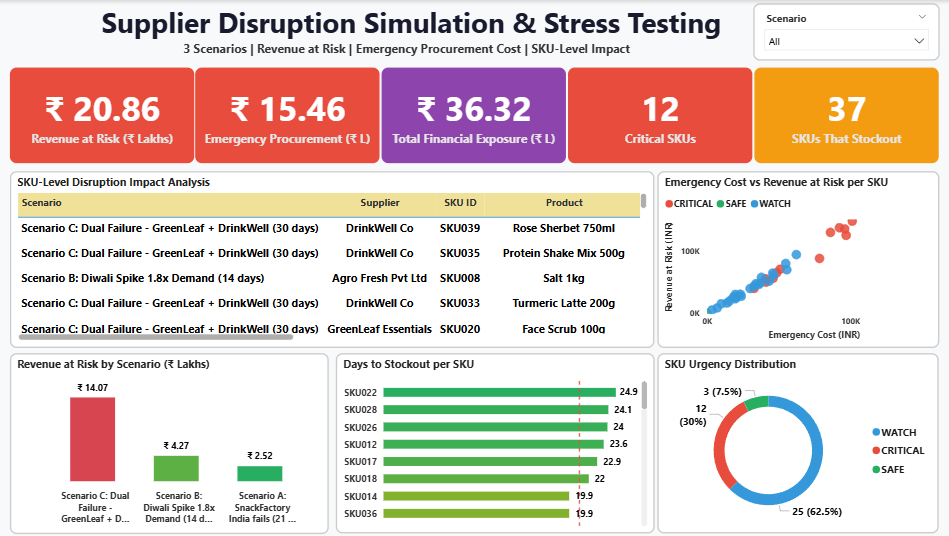

What the dashboard file says about the page in this screenshot:
{"tool":"powerbi","page":{"name":"Disruption Simulation","canvas":[1280,720],"ordinal":4},"visuals":[{"type":"textbox","box":[120.4,0,855.4,81.3],"z":0},{"type":"card","fields":{"Values":["_Measures.Total Revenue at Risk Scenarios"]},"box":[14.1,90.7,248,128.2],"z":1000},{"type":"card","fields":{"Values":["_Measures.SKUs at Critical Risk"]},"box":[764.7,90.7,248,128.2],"z":2000},{"type":"card","fields":{"Values":["_Measures.Total Emergency Cost"]},"box":[264.3,90.7,248,128],"z":3000},{"type":"card","fields":{"Values":["_Measures.Total Financial Exposure"]},"box":[514.5,90.7,248,128.2],"z":4000},{"type":"tableEx","title":"SKU-Level Disruption Impact Analysis","fields":{"Values":["disruption_scenarios.scenario","disruption_scenarios.supplier_name","disruption_scenarios.sku_id","disruption_scenarios.product_name","Sum(disruption_scenarios.current_stock)","Sum(disruption_scenarios.units_short)","Sum(disruption_scenarios.days_to_stockout)","Sum(disruption_scenarios.revenue_at_risk_inr)","Sum(disruption_scenarios.emergency_cost_inr)","disruption_scenarios.urgency_level","disruption_scenarios.recommended_action"]},"box":[14.1,229.9,866,237.7],"z":5000},{"type":"scatterChart","title":"Emergency Cost vs Revenue at Risk per SKU","fields":{"X":["Sum(disruption_scenarios.emergency_cost_inr)"],"Y":["disruption_scenarios.revenue_at_risk_inr"],"Series":["disruption_scenarios.urgency_level"]},"box":[885.1,229.9,378.5,237.7],"z":6000},{"type":"clusteredBarChart","title":"Days to Stockout per SKU","fields":{"Category":["disruption_scenarios.sku_id"],"Y":["Avg(disruption_scenarios.days_to_stockout)"]},"box":[452,473.9,428.5,242.4],"z":8000},{"type":"card","fields":{"Values":["_Measures.SKUs That Stockout"]},"box":[1014.9,90.7,248,128.2],"z":9000},{"type":"slicer","fields":{"Values":["disruption_scenarios.scenario"]},"box":[1013.4,4.7,250.2,76.6],"z":10000},{"type":"clusteredColumnChart","title":"Revenue at Risk by Scenario (₹ Lakhs)","fields":{"Category":["disruption_scenarios.scenario"],"Y":["_Measures.Total Revenue at Risk Scenarios"]},"box":[14.1,473.9,428,243],"z":10001},{"type":"donutChart","title":"SKU Urgency Distribution","fields":{"Y":["CountNonNull(disruption_scenarios.sku_id)"],"Category":["disruption_scenarios.urgency_level"]},"box":[885,474,378,242],"z":10002}]}

Visuals, with their boxes in screenshot pixels (x1, y1, x2, y2), scaled from the page's 1280x720 canvas onto the 949x536 screenshot:
textbox: left=89, top=0, right=723, bottom=61
card - _Measures.Total Revenue at Risk Scenarios: left=10, top=68, right=194, bottom=163
card - _Measures.SKUs at Critical Risk: left=567, top=68, right=751, bottom=163
card - _Measures.Total Emergency Cost: left=196, top=68, right=380, bottom=163
card - _Measures.Total Financial Exposure: left=381, top=68, right=565, bottom=163
"SKU-Level Disruption Impact Analysis" tableEx: left=10, top=171, right=653, bottom=348
"Emergency Cost vs Revenue at Risk per SKU" scatterChart: left=656, top=171, right=937, bottom=348
"Days to Stockout per SKU" clusteredBarChart: left=335, top=353, right=653, bottom=533
card - _Measures.SKUs That Stockout: left=752, top=68, right=936, bottom=163
slicer - disruption_scenarios.scenario: left=751, top=3, right=937, bottom=61
"Revenue at Risk by Scenario (₹ Lakhs)" clusteredColumnChart: left=10, top=353, right=328, bottom=534
"SKU Urgency Distribution" donutChart: left=656, top=353, right=936, bottom=533
